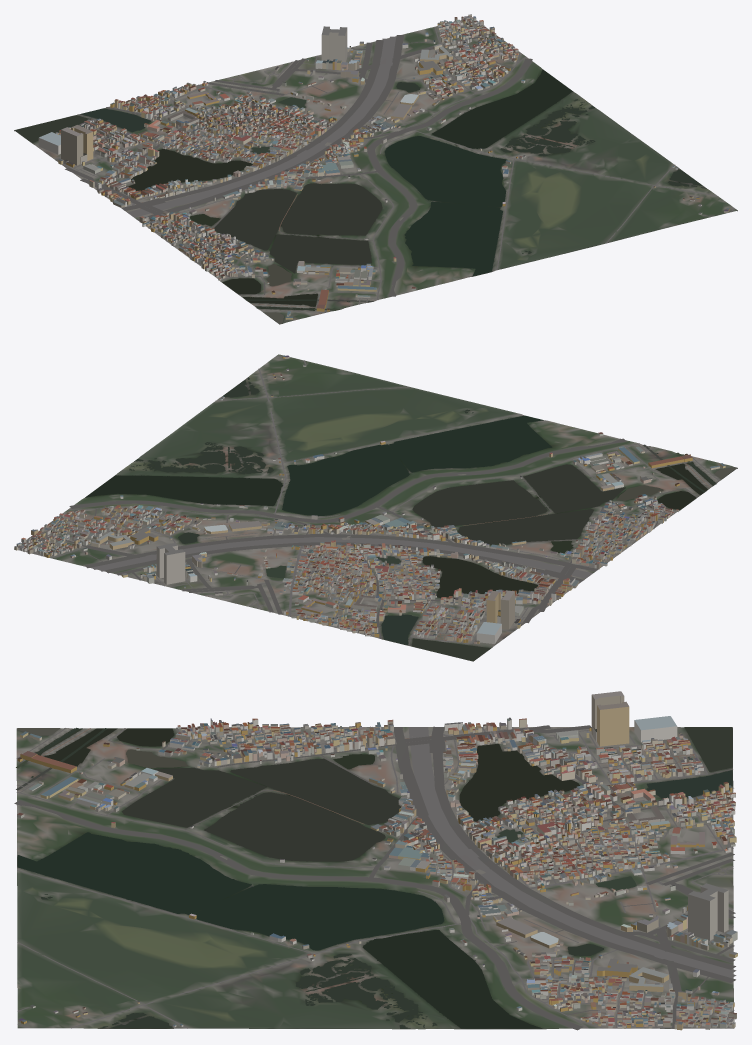
3 renders of one model, top to bottom at view 1: azimuth 30°, elevation 25°; view 2: azimuth 150°, elevation 25°; view 3: azimuth 270°, elevation 25°, orthographic. The views are drawn at different scales.
Parts seen in each view (by area): view 1: ground, water, buildings, roads; view 2: ground, water, buildings, roads; view 3: ground, water, buildings, roads.
Boxes of the visible parts, <box> form: ground: <box>14,19,737,324</box>; water: <box>15,35,706,323</box>; buildings: <box>38,14,729,319</box>; roads: <box>54,17,733,312</box>; ground: <box>14,354,737,661</box>; water: <box>39,377,736,660</box>; buildings: <box>14,355,725,643</box>; roads: <box>27,356,719,645</box>; ground: <box>16,727,733,1029</box>; water: <box>16,727,732,1028</box>; buildings: <box>17,691,737,1030</box>; roads: <box>14,725,736,1030</box>.
Bounding box in the file's own units: 1417 × 92.21 × 1417.
